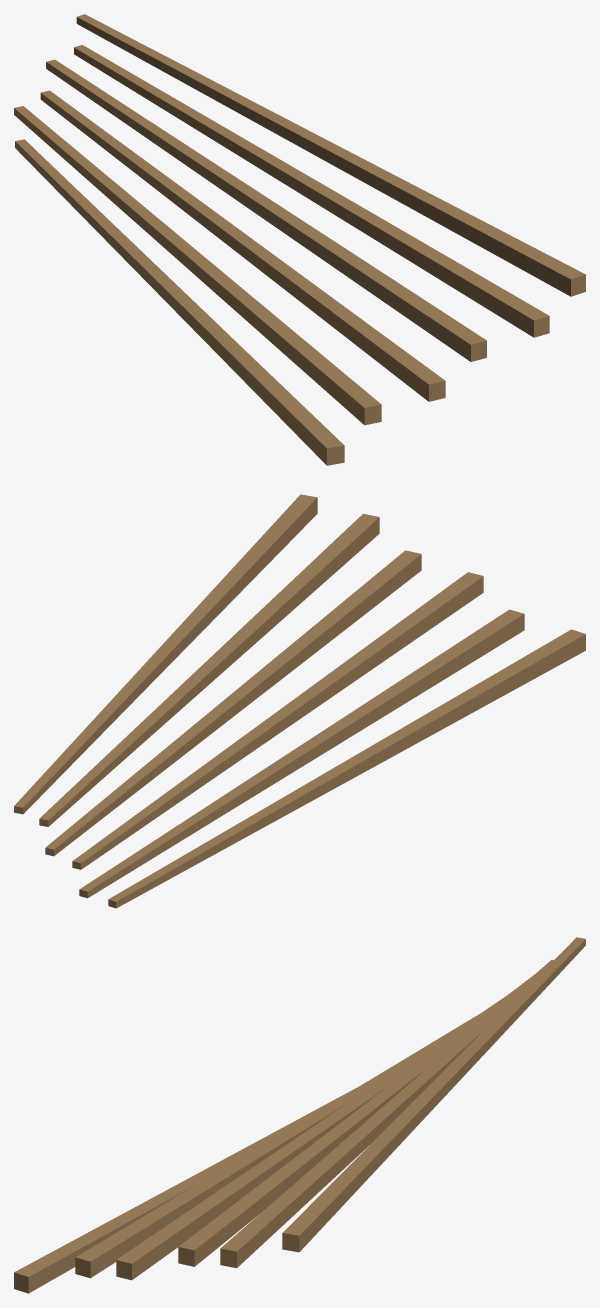
The model's file is ArrowShaftStack6Plus.glb.
3 renders of one model, top to bottom at view 1: azimuth 30°, elevation 25°; view 2: azimuth 150°, elevation 25°; view 3: azimuth 330°, elevation 25°, orthographic. The views are drawn at different scales.
Parts seen in each view (by area): view 1: ArrowShaftStack6Plus; view 2: ArrowShaftStack6Plus; view 3: ArrowShaftStack6Plus.
Part boxes in pixels (box(x1,y1,x2,y2)): ArrowShaftStack6Plus: box(14, 14, 585, 465); ArrowShaftStack6Plus: box(14, 494, 585, 908); ArrowShaftStack6Plus: box(14, 937, 585, 1293).
Bounding box in the file's own units: 0.2219 × 0.0832 × 0.5806.
